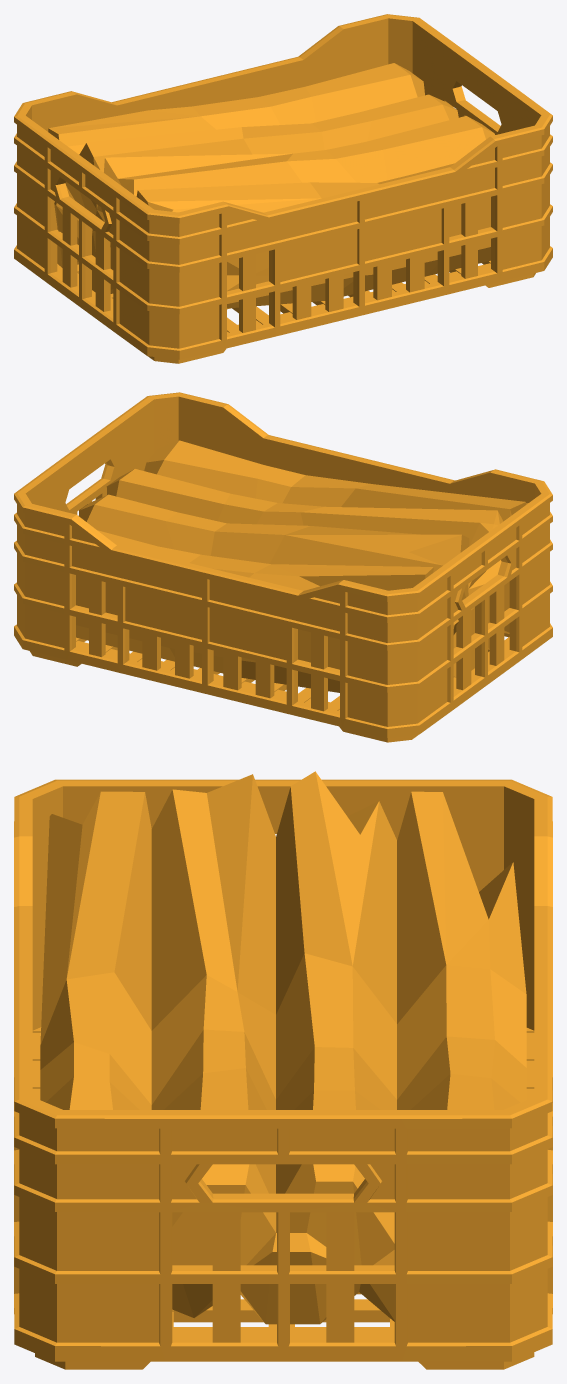
File: SM_Crate_Plastic_Small_Leek_B.fbx
3 views of the same model, one above another, from view 1: azimuth 30°, elevation 25°; view 2: azimuth 150°, elevation 25°; view 3: azimuth 270°, elevation 25° (orthographic). The views are drawn at different scales.
Visible parts, largest first — view 1: crate-plastic-small-leek-b; view 2: crate-plastic-small-leek-b; view 3: crate-plastic-small-leek-b.
Part boxes in pixels (x1=…): crate-plastic-small-leek-b: x1=14, y1=14, x2=552, y2=363; crate-plastic-small-leek-b: x1=14, y1=392, x2=552, y2=742; crate-plastic-small-leek-b: x1=14, y1=771, x2=552, y2=1369.
Size of the model in its own units: 0.6083 by 0.2342 by 0.4083.
